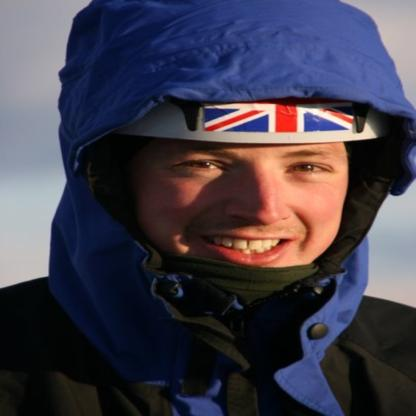Helmet: (28, 23, 406, 342)
